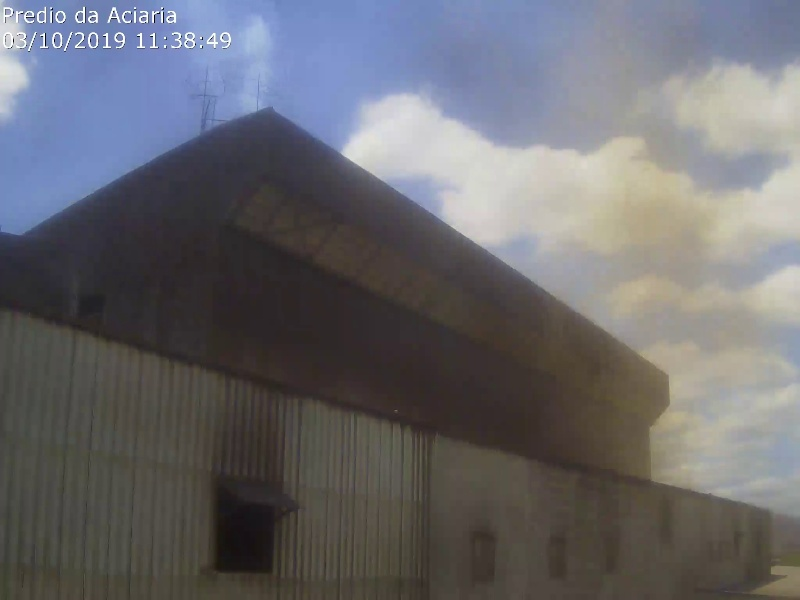bom: (4, 6, 273, 156)
ruim: (524, 14, 788, 491)
